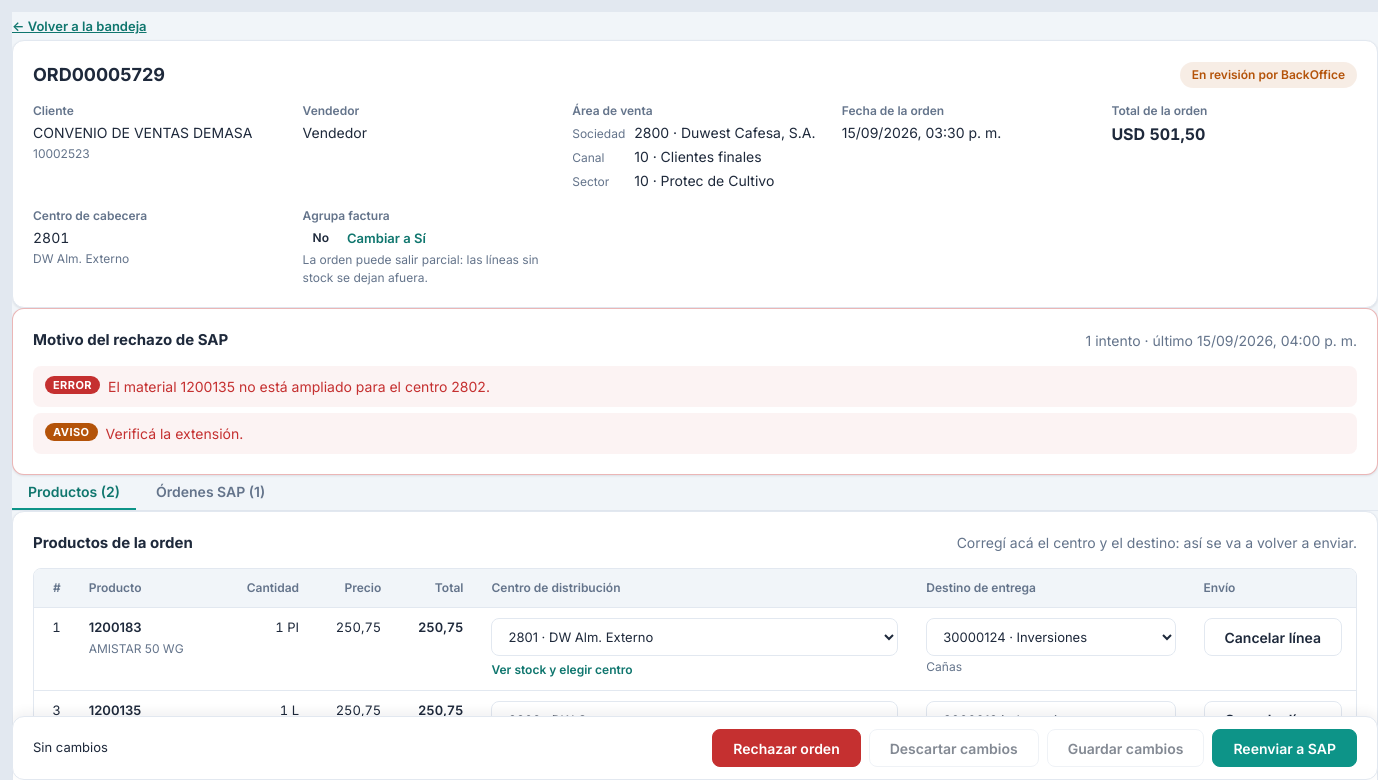
Scenario: ReviewOrderDetail › las órdenes SAP se separan por intento › con un solo envío igual se indica de dónde vino
Expected: the heading "ORD00005729" is shown, x1=33 y1=61 x2=165 y2=88
Click the tab "Órdenes SAP (1)". click: (211, 492)
box: x1=140 y1=474 x2=281 y2=510
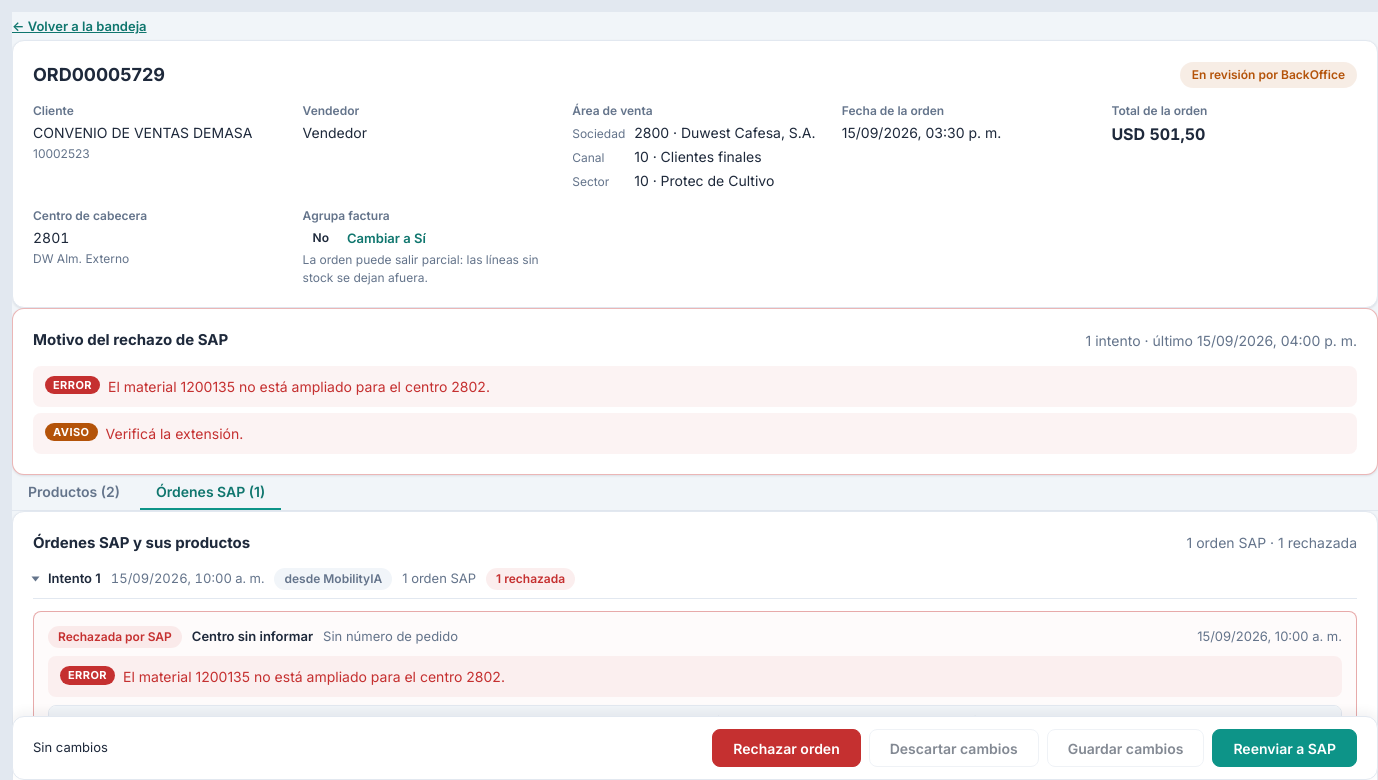
Result: the text "Intento 1" is shown at x1=48 y1=569 x2=101 y2=589
Result: the text "desde MobilityIA" is shown at x1=274 y1=568 x2=392 y2=590
Result: the text "1 orden SAP" is shown at x1=402 y1=569 x2=476 y2=589
